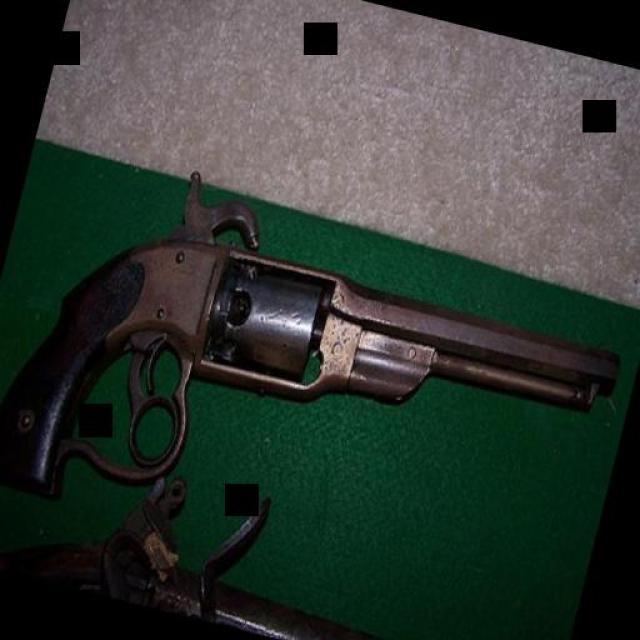gun: (0, 123, 640, 628)
